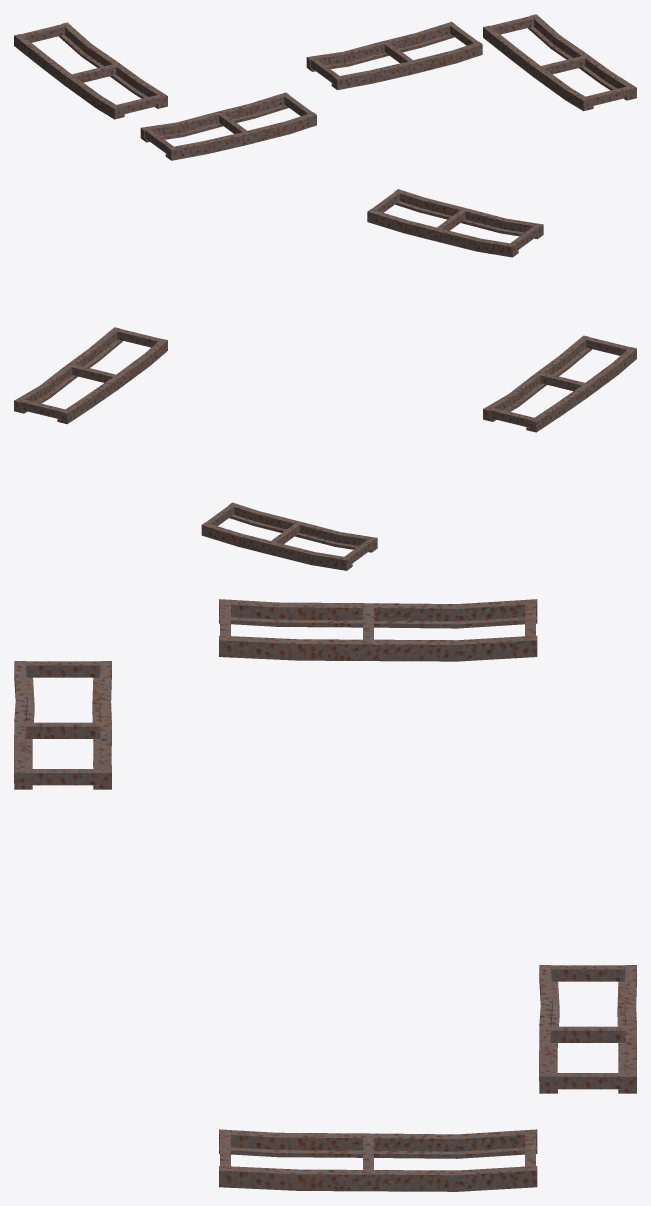
The model's file is SM_LDFest_15_Metal_00.fbx.
The picture shows the model from 3 angles, top to bottom: view 1: azimuth 30°, elevation 25°; view 2: azimuth 150°, elevation 25°; view 3: azimuth 270°, elevation 25°; orthographic projection. The views are drawn at different scales.
Parts seen in each view (by area): view 1: SM_LDFest_15_Metal_00; view 2: SM_LDFest_15_Metal_00; view 3: SM_LDFest_15_Metal_00.
Part boxes in pixels (x1=…): SM_LDFest_15_Metal_00: x1=14, y1=14, x2=636, y2=160; SM_LDFest_15_Metal_00: x1=14, y1=189, x2=636, y2=570; SM_LDFest_15_Metal_00: x1=14, y1=599, x2=636, y2=1191.
Size of the model in its own units: 2933 by 1103 by 1913.
